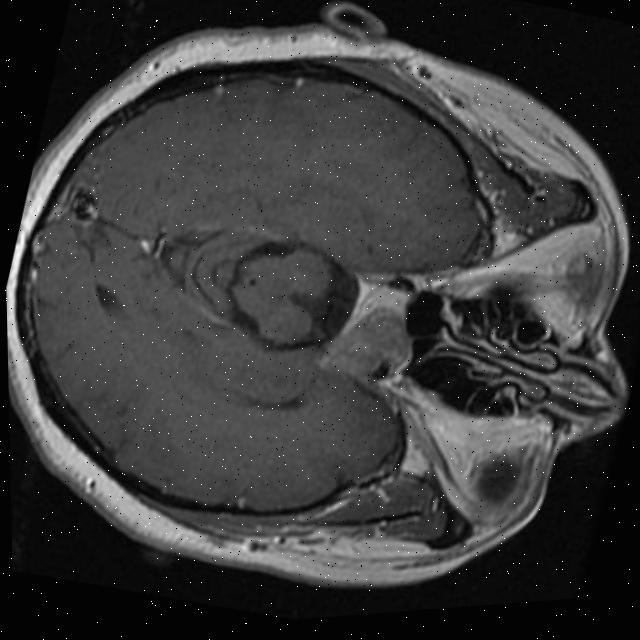Pituitary: (338, 280, 427, 375)
